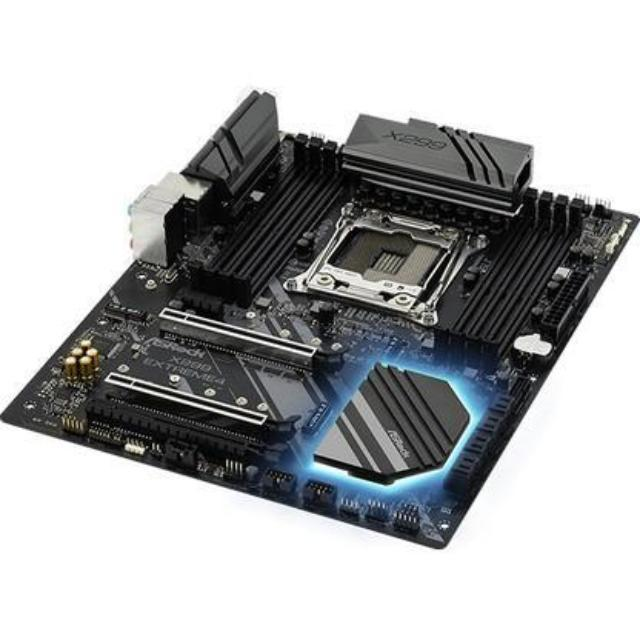Mainboard: (0, 80, 638, 557)
